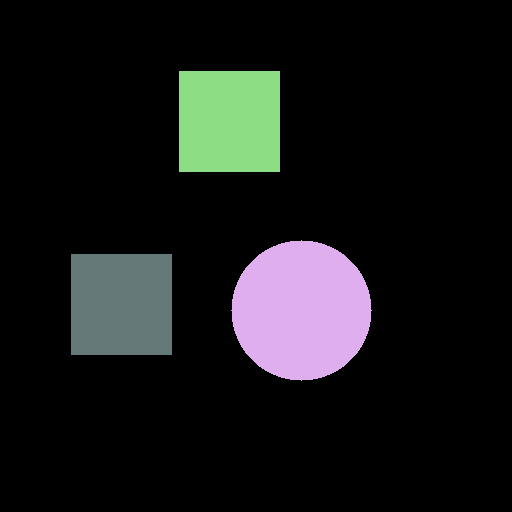circle: (231, 240, 371, 380)
square: (71, 254, 171, 354), (179, 71, 279, 171)
